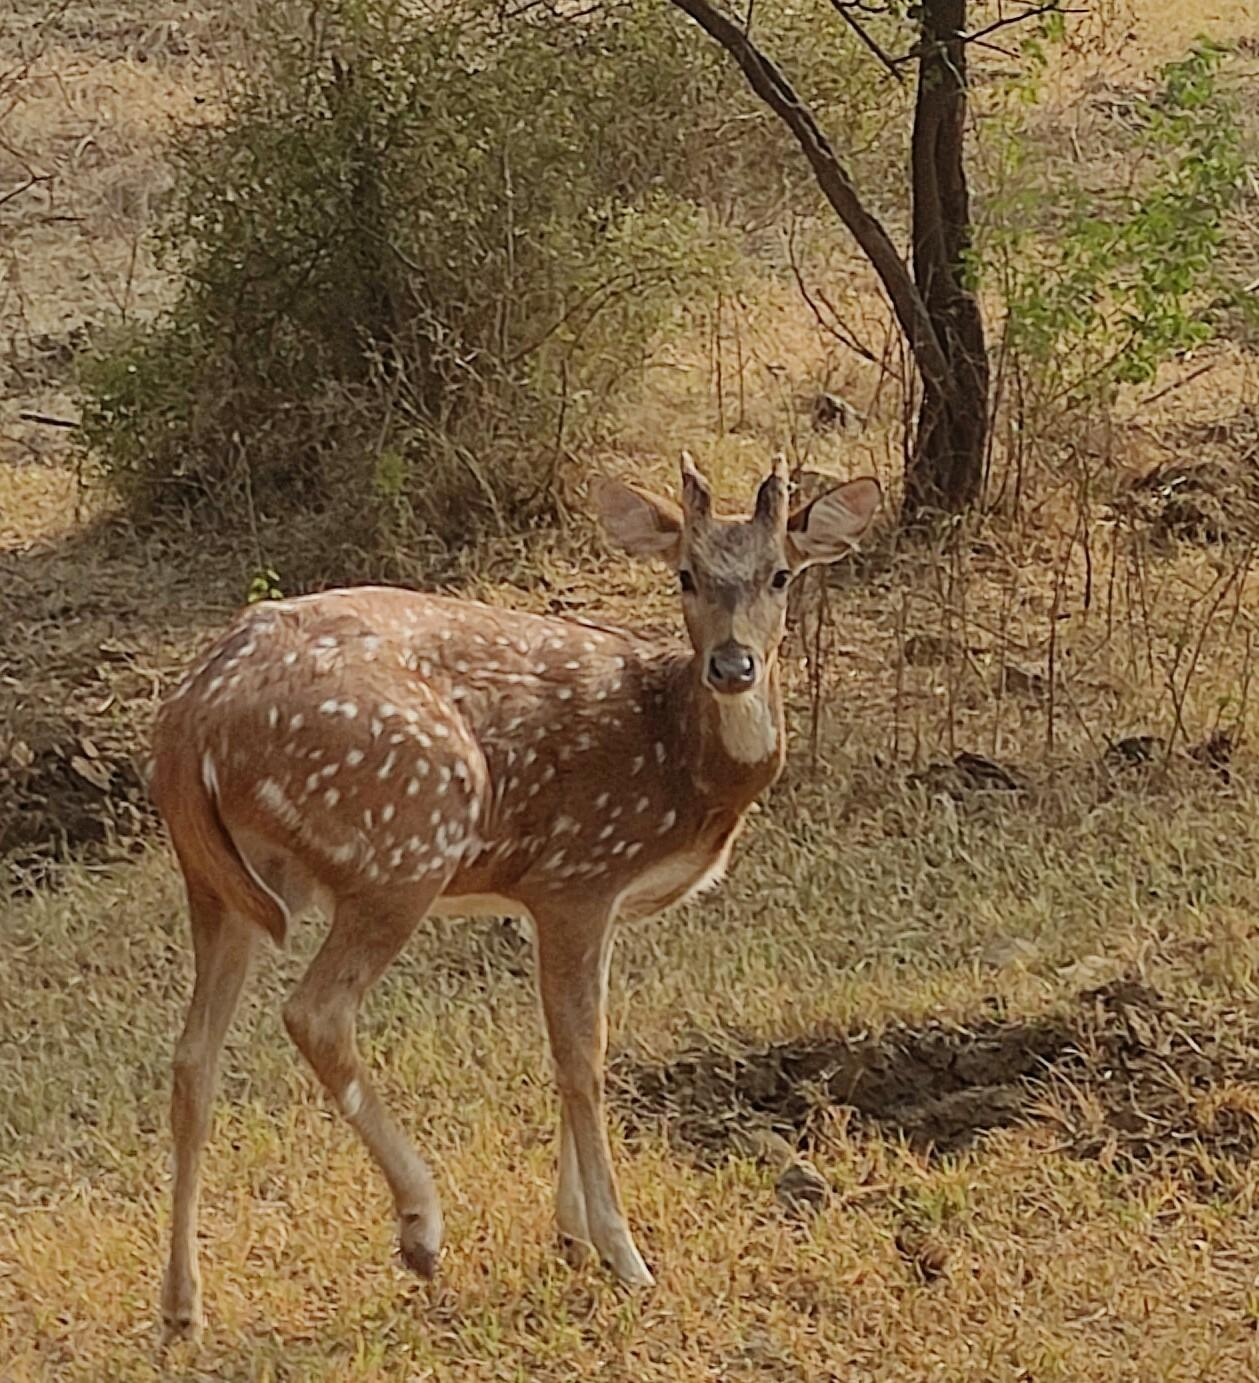Deer: (151, 452, 882, 1332)
